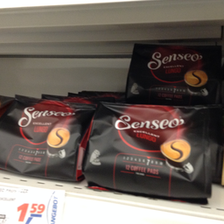coffee: (83, 100, 215, 206), (1, 94, 91, 182), (123, 42, 223, 102)
